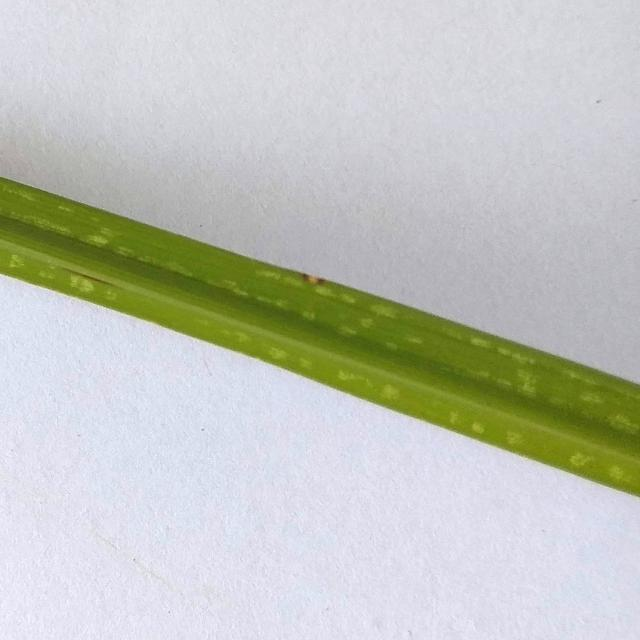Blast: (302, 273, 326, 286)
